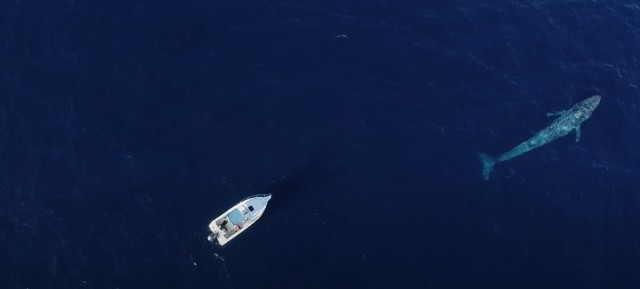whale: (467, 86, 608, 189)
